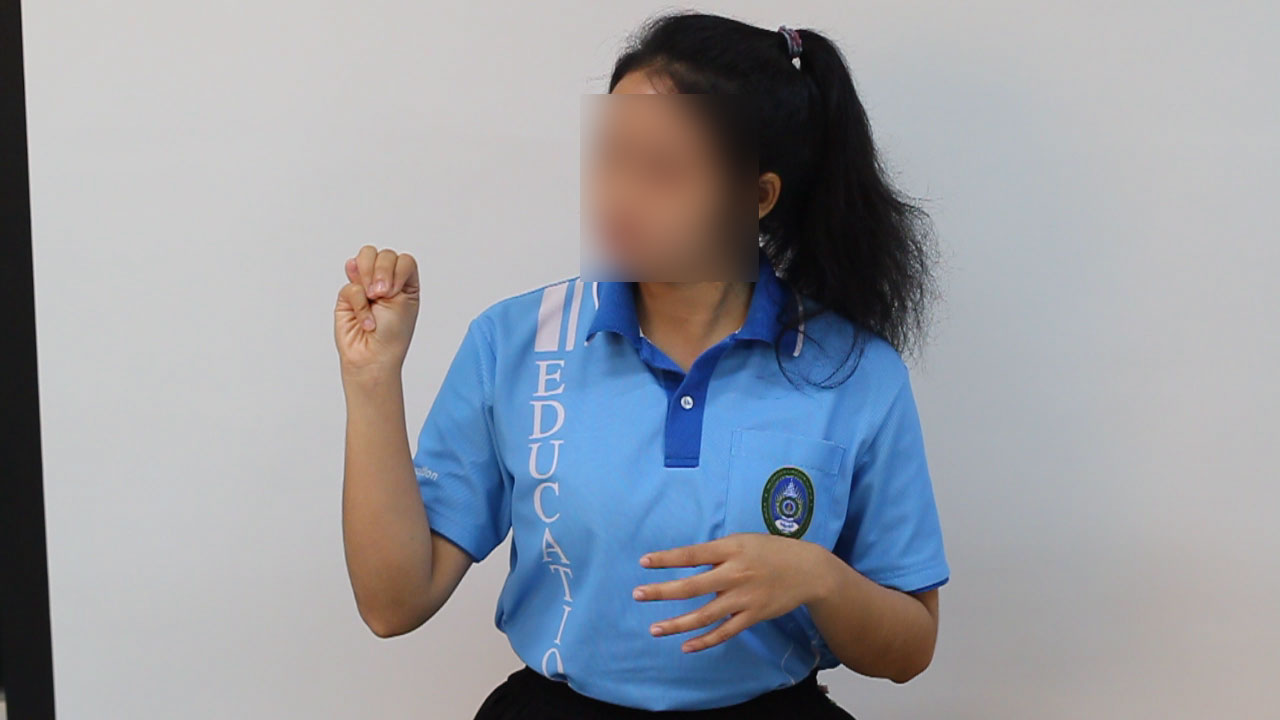mor: (322, 222, 437, 391)
